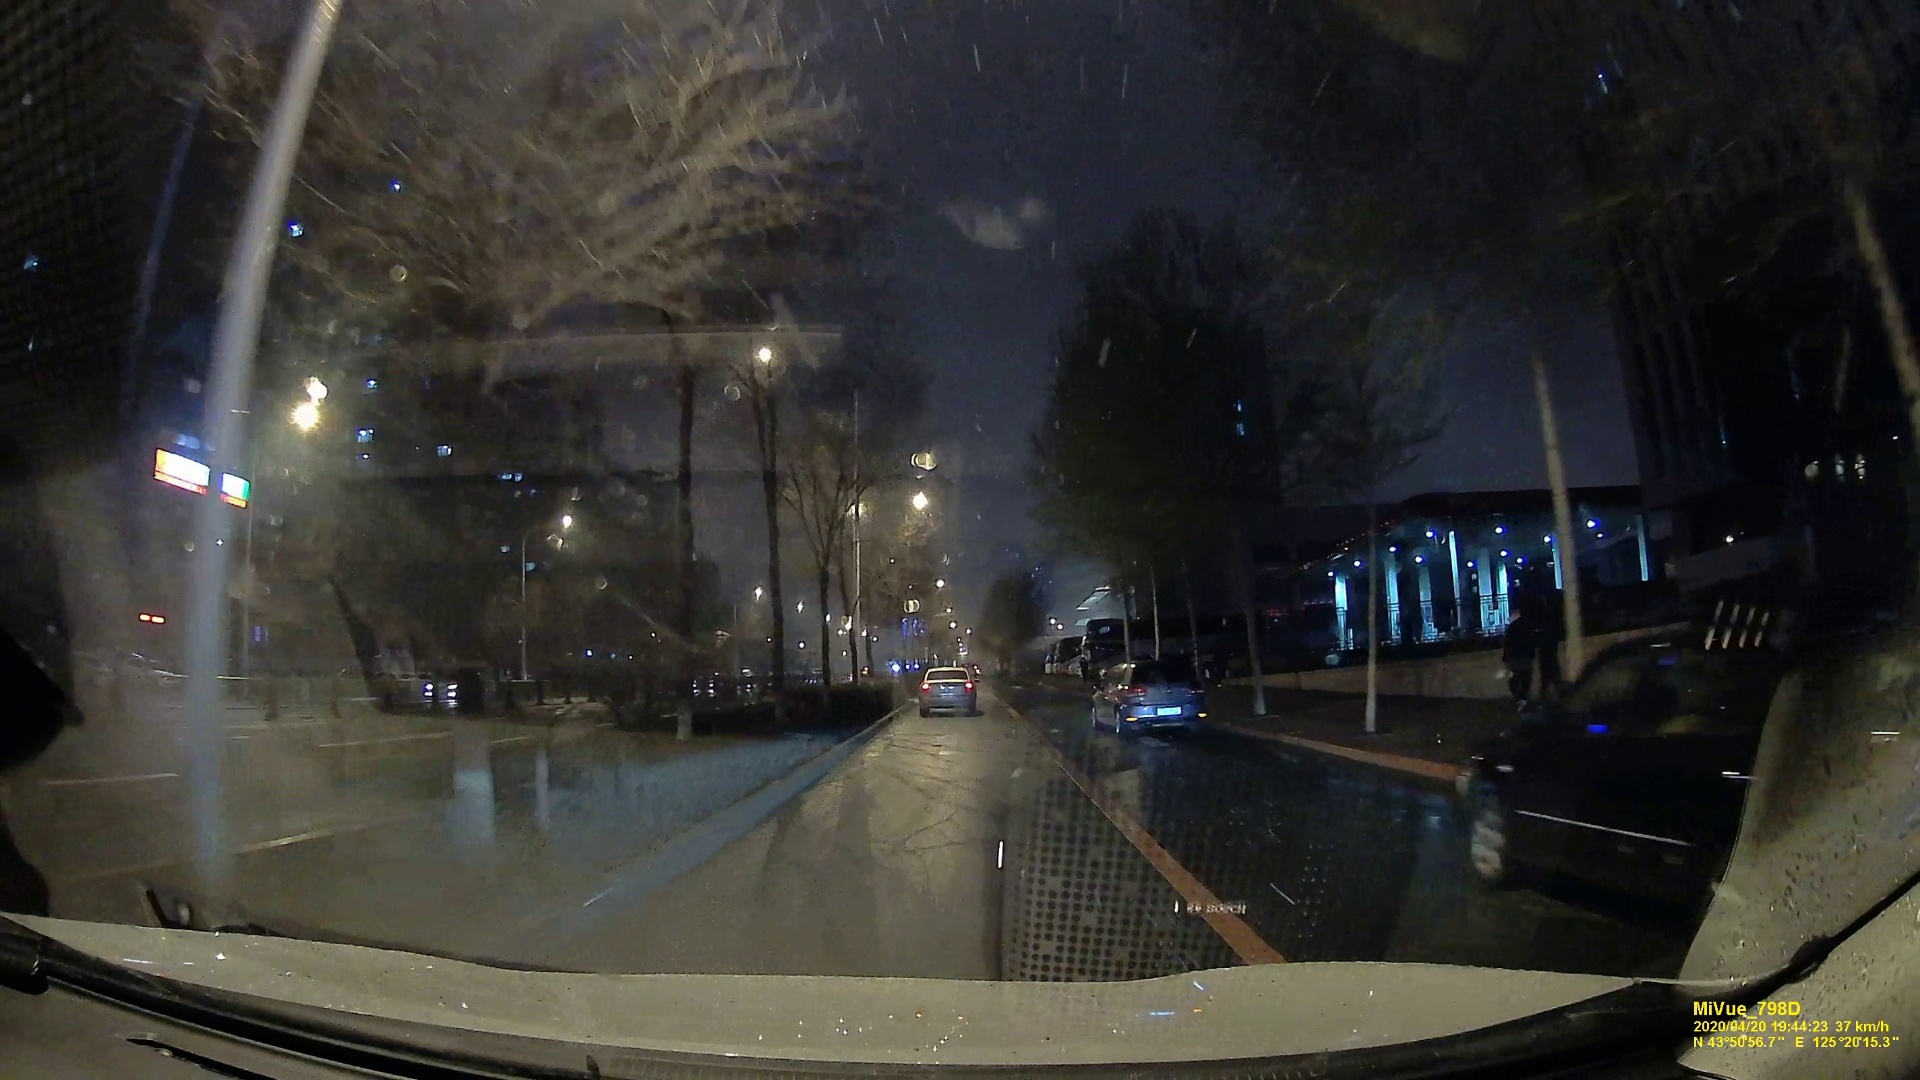person: (1505, 608, 1537, 704)
vehicle: (1453, 644, 1901, 904), (1090, 653, 1206, 736), (919, 667, 980, 716), (422, 668, 484, 704)
